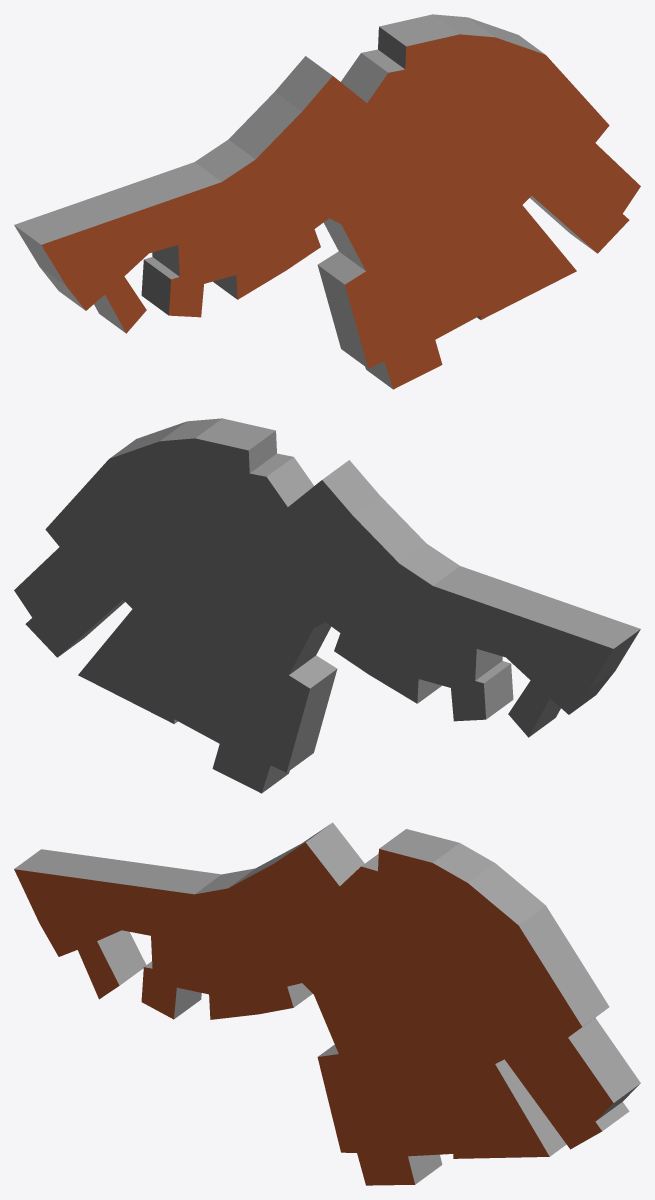
File: construction_1058_assumed_A_Casa_h6m.obj
3 renders of one model, top to bottom at view 1: azimuth 30°, elevation 25°; view 2: azimuth 150°, elevation 25°; view 3: azimuth 330°, elevation 25°, orthographic.
Visible parts, largest first — view 1: construction_1058_assumed_A_Casa; view 2: construction_1058_assumed_A_Casa; view 3: construction_1058_assumed_A_Casa.
Boxes of the visible parts, left/top/right/bottom form: construction_1058_assumed_A_Casa: left=14, top=14, right=640, bottom=389; construction_1058_assumed_A_Casa: left=14, top=418, right=640, bottom=793; construction_1058_assumed_A_Casa: left=14, top=822, right=640, bottom=1185.
Bounding box in the file's own units: 76.11 × 41.22 × 6.
